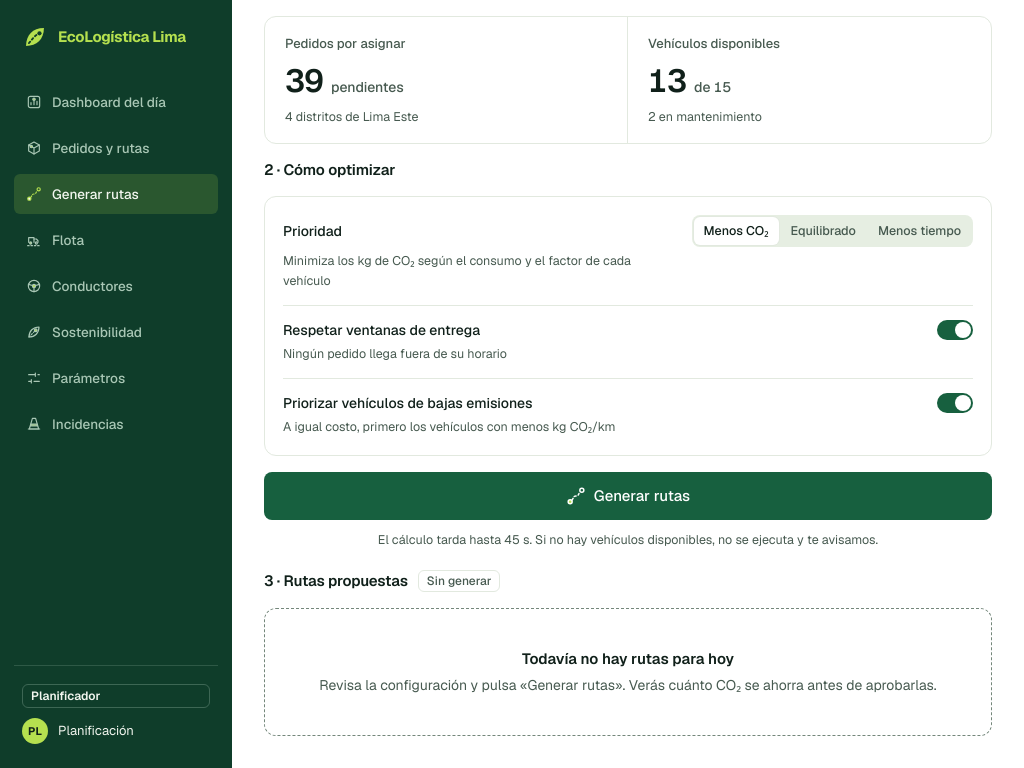
Test: RoutePlanningView › sin ahorro frente a la línea base lo dice en lugar de mostrar un descuento negativo
(page scrolled)
Expected: the text "pendientes" is shown, x1=331 y1=77 x2=404 y2=97
Click the button "Generar rutas".
click(628, 496)  # box x1=264 y1=472 x2=992 y2=520
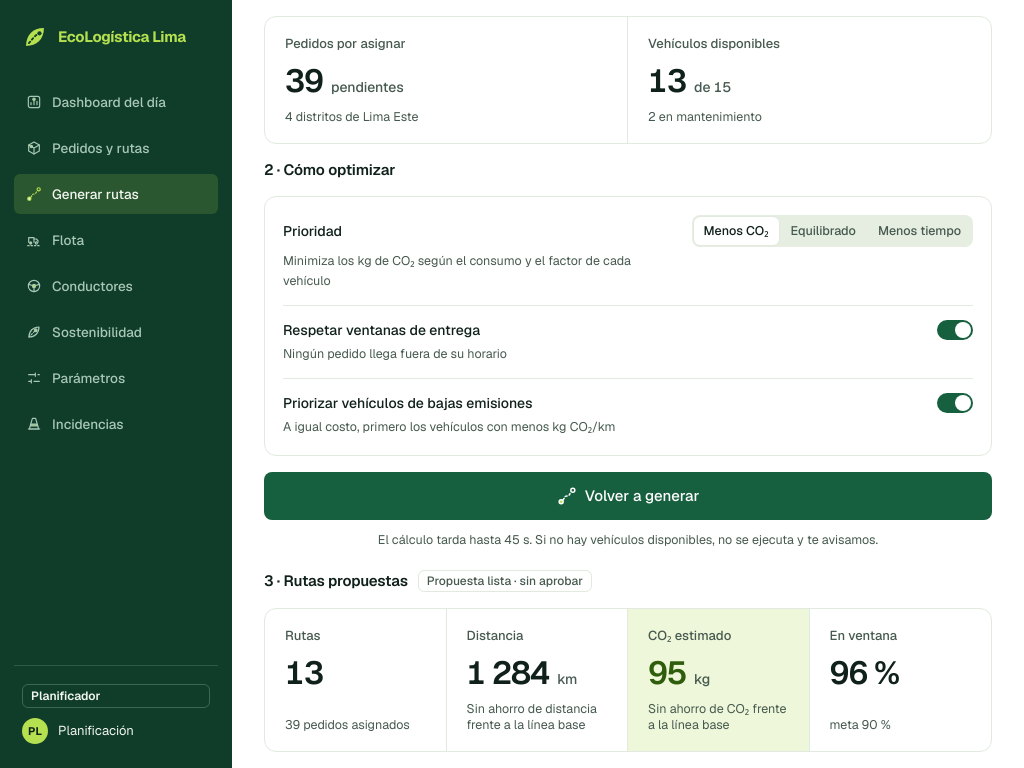
Expected: the element named "Resumen de la propuesta" does not show "−-", x1=264 y1=608 x2=992 y2=752
Expected: the element named "Resumen de la propuesta" shows "Sin ahorro de distancia frente a la línea base", x1=466 y1=700 x2=597 y2=733
Expected: the element named "Resumen de la propuesta" shows "Sin ahorro de CO₂ frente a la línea base", x1=648 y1=700 x2=786 y2=733
